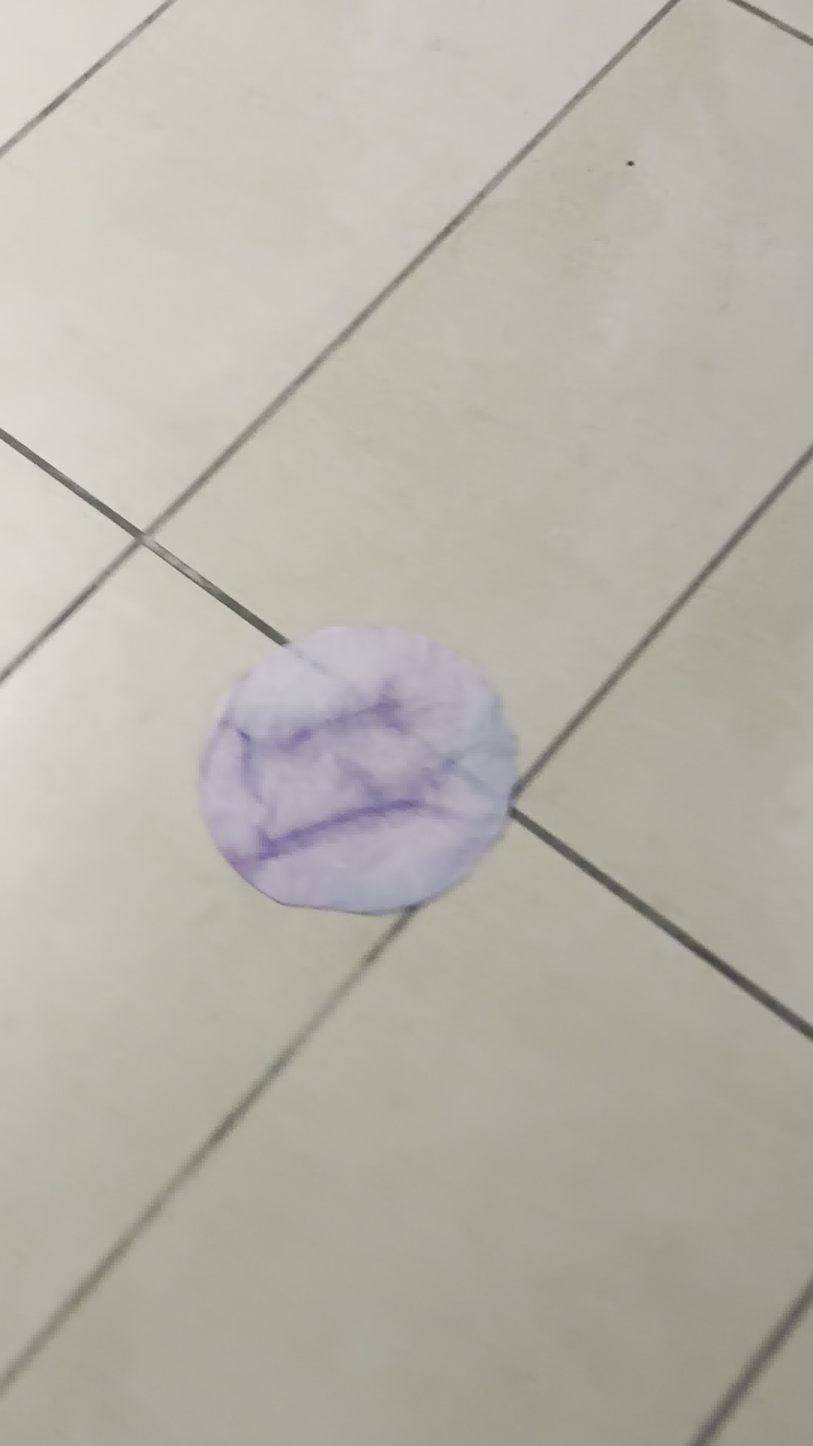Target: (188, 626, 516, 914)
